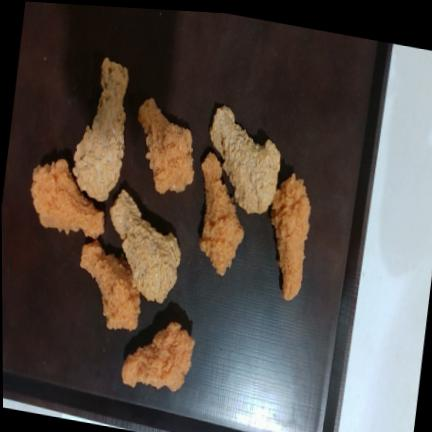chicken: (73, 57, 128, 200), (110, 190, 180, 302), (209, 105, 280, 212), (31, 158, 104, 238), (80, 241, 140, 330), (138, 98, 194, 193), (200, 152, 243, 275), (121, 322, 194, 390), (271, 174, 310, 299)
